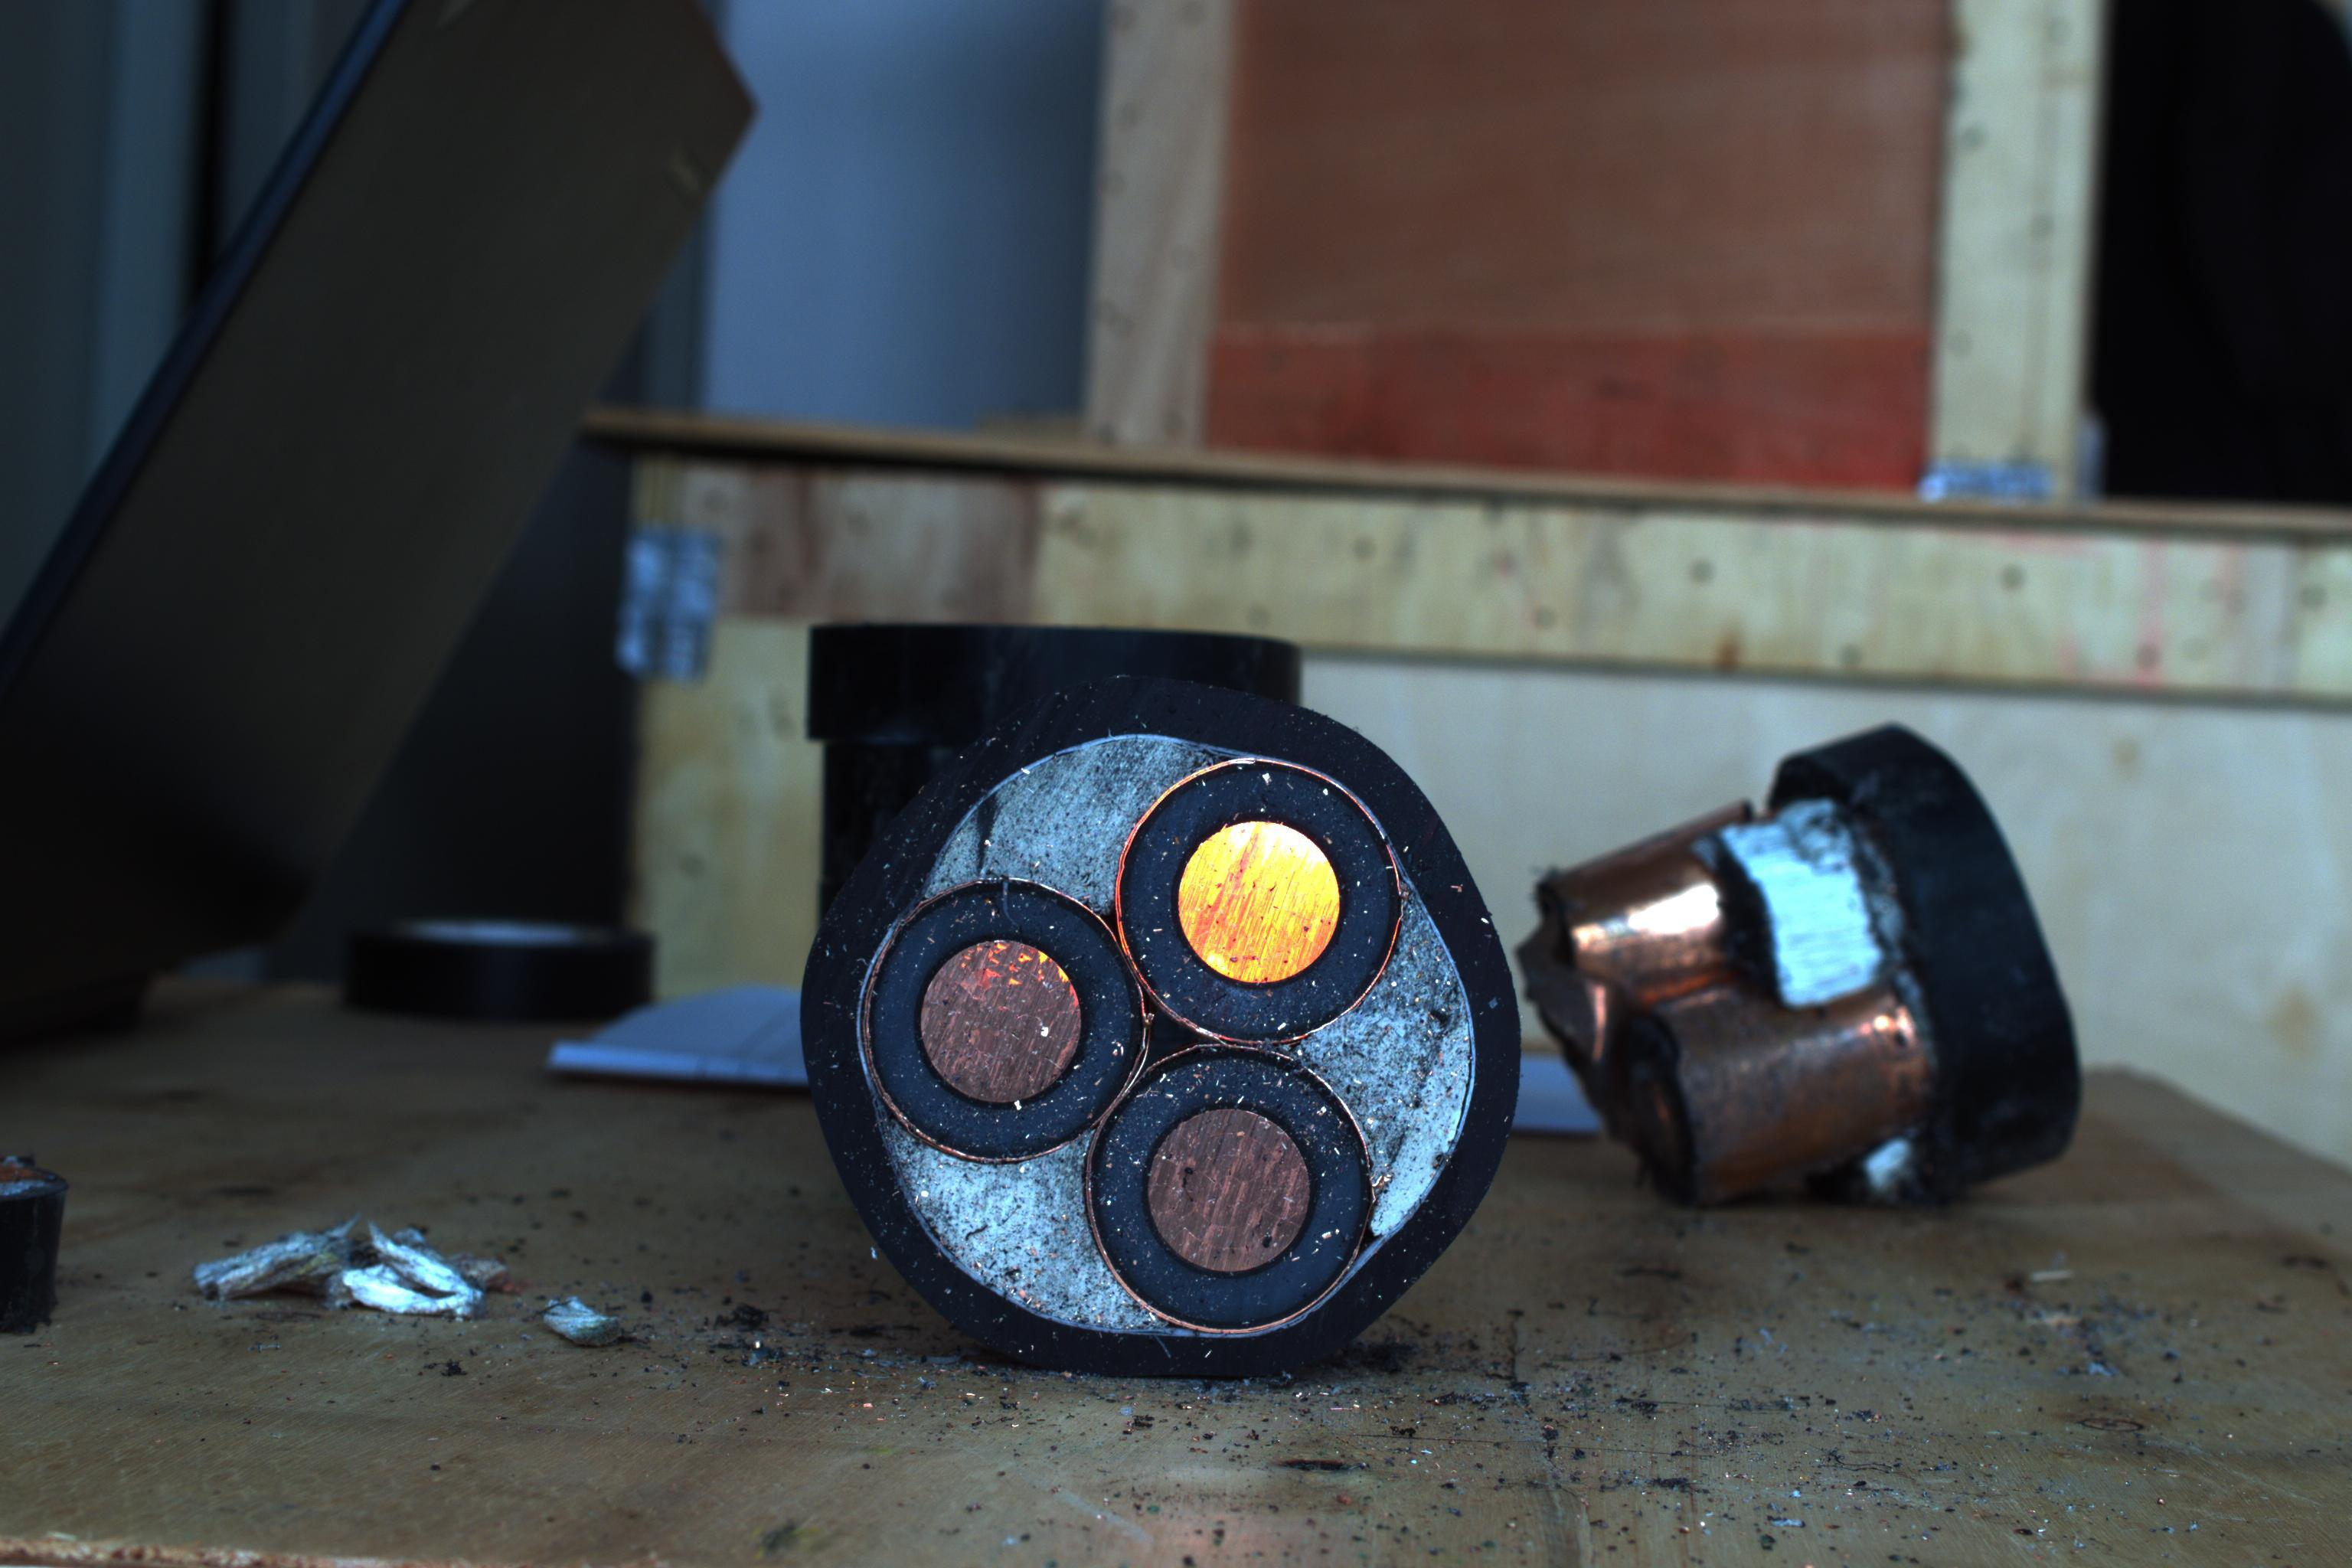ZA_YJV_8.7_10kV_3x240: (847, 717, 1531, 1393)
